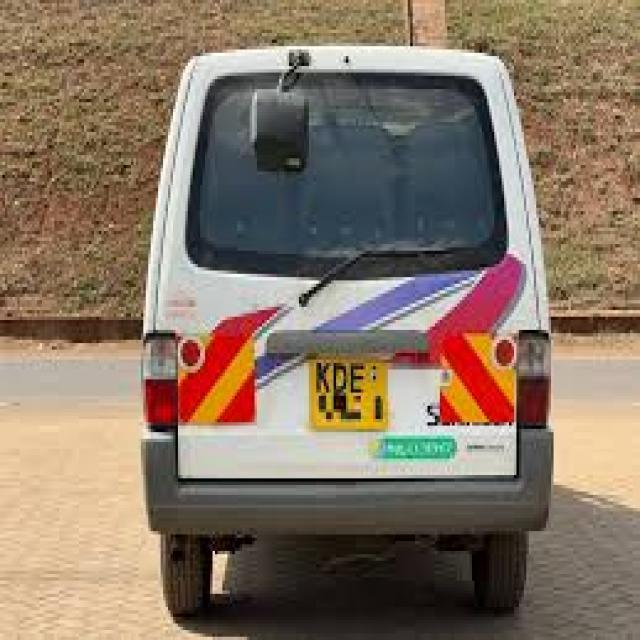matatu: (100, 0, 588, 640)
